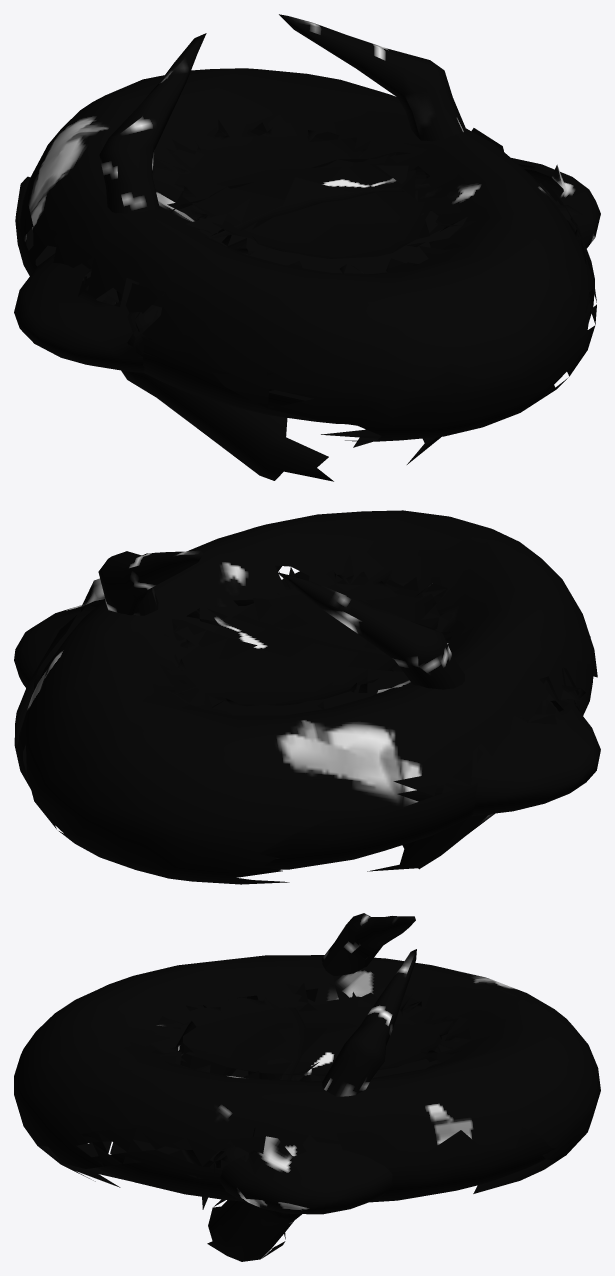
The model's file is CurseMouths.obj.
The picture shows the model from 3 angles, top to bottom: view 1: azimuth 30°, elevation 25°; view 2: azimuth 150°, elevation 25°; view 3: azimuth 270°, elevation 25°; orthographic projection. The views are drawn at different scales.
Visible parts, largest first — view 1: Maw_SkinDark, Maw_Skin, Mandibles_Claw, GrinMouth_Skin, GrinMouth_SkinDark, Mandibles_SkinDark; view 2: Maw_SkinDark, Maw_Skin, GrinMouth_Skin, Mandibles_Claw, GrinMouth_SkinDark; view 3: Maw_SkinDark, Maw_Skin, GrinMouth_Skin, Mandibles_Claw, GrinMouth_SkinDark.
Boxes of the visible parts, x1,y1,x2,y2 form: Maw_SkinDark: (19, 68, 596, 441); Maw_Skin: (15, 120, 594, 424); Mandibles_Claw: (99, 14, 465, 481); GrinMouth_Skin: (14, 152, 600, 372); GrinMouth_SkinDark: (85, 177, 583, 356); Mandibles_SkinDark: (211, 229, 318, 259); Maw_SkinDark: (19, 510, 597, 884); Maw_Skin: (14, 559, 593, 869); GrinMouth_Skin: (14, 578, 600, 816); Mandibles_Claw: (98, 550, 494, 871); GrinMouth_SkinDark: (180, 610, 582, 723); Maw_SkinDark: (14, 955, 600, 1193); Maw_Skin: (81, 994, 572, 1202); GrinMouth_Skin: (176, 983, 441, 1214); Mandibles_Claw: (202, 913, 416, 1261); GrinMouth_SkinDark: (213, 995, 319, 1172).
Size of the model in its own units: 1.13 by 0.7112 by 1.25.
9 materials, 9 textured.
